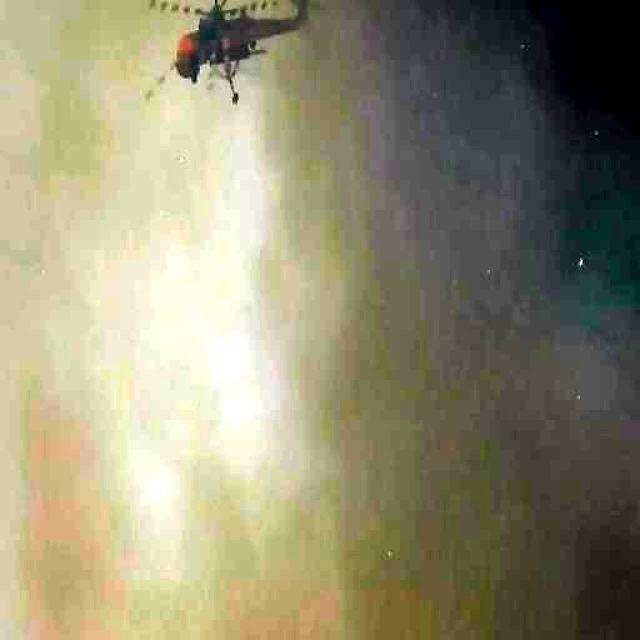drone: (158, 0, 314, 119)
